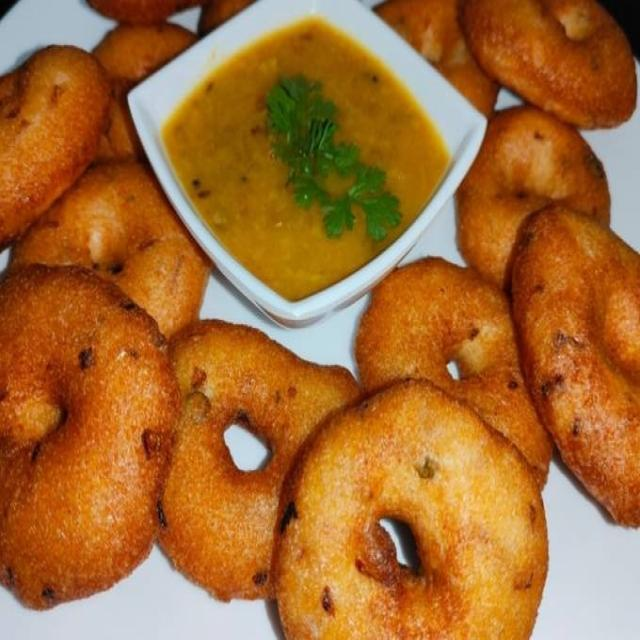medu vadai: (274, 381, 547, 639), (0, 265, 181, 607), (0, 265, 180, 607), (160, 320, 360, 598), (352, 257, 546, 485), (508, 206, 639, 531), (9, 159, 208, 343), (455, 105, 609, 290), (2, 44, 109, 260), (463, 0, 633, 129), (371, 0, 501, 117), (441, 364, 556, 494), (93, 21, 198, 87)
